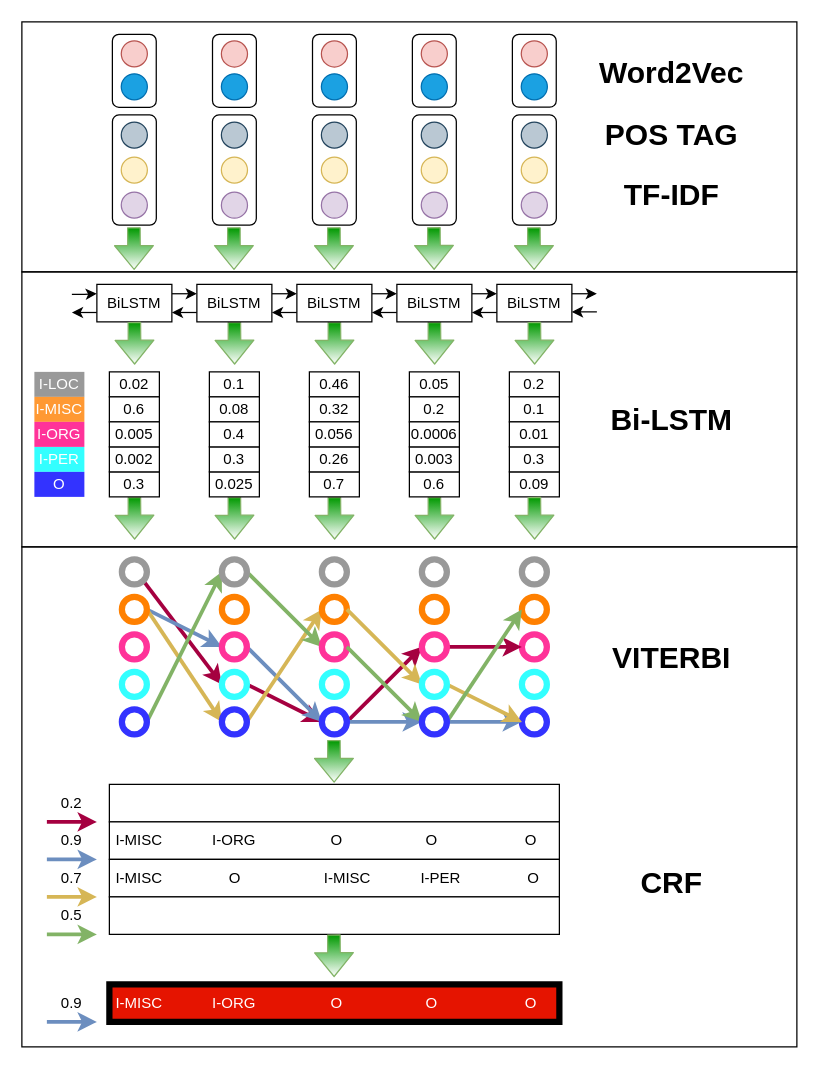
The diagram is 819 pixels wide and 1069 high, and some of its shapes have lost their labels. The shapes that lost their labels are listed below. From the top down, each one's box as (x1, y1, x2, y2) in pixels, then its label:
(108, 783, 559, 822): I-LOC I-PER O I-ORG I-ORG
(108, 896, 559, 934): O I-LOC I-ORG O I-MISC
